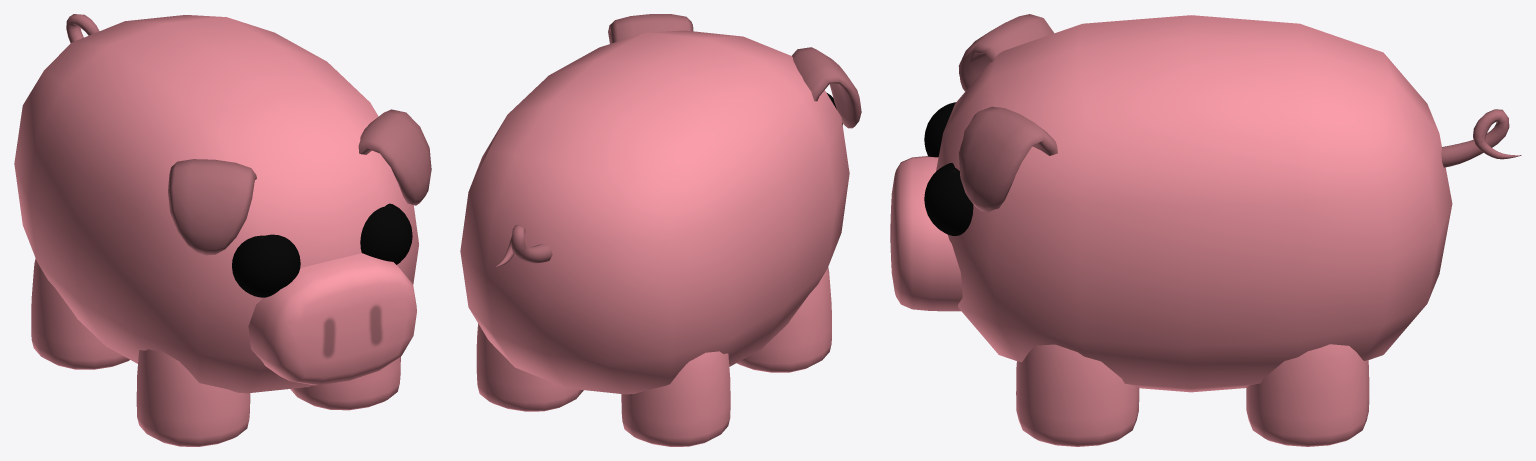
The model's file is Pig.fbx.
The picture shows the model from 3 angles, left to right: view 1: azimuth 30°, elevation 25°; view 2: azimuth 150°, elevation 25°; view 3: azimuth 270°, elevation 25°; orthographic projection. The views are drawn at different scales.
Visible parts, largest first — view 1: Piggy; view 2: Piggy; view 3: Piggy.
Boxes of the visible parts, <box> form: Piggy: <box>14,14,431,446</box>; Piggy: <box>460,14,861,446</box>; Piggy: <box>890,14,1521,446</box>.
Bounding box in the file's own units: 60.2 × 63.68 × 105.
Materials: 1 (1 with a texture image).
